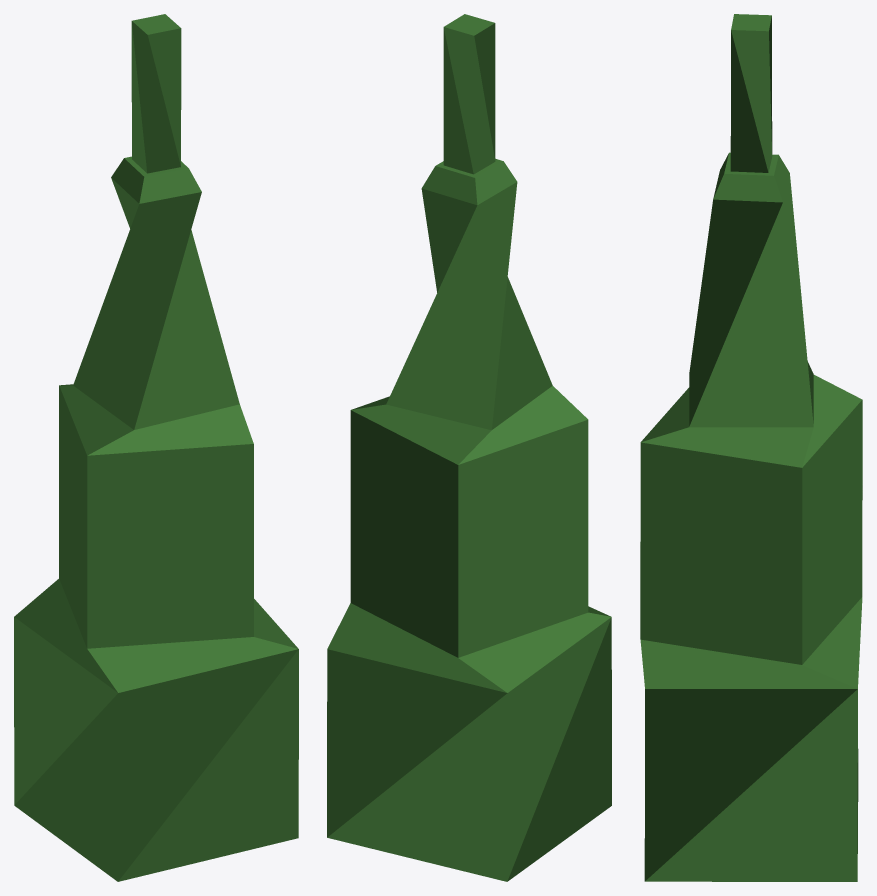
Rendered from Grass.fbx.
3 views of the same model, side by side, from view 1: azimuth 30°, elevation 25°; view 2: azimuth 150°, elevation 25°; view 3: azimuth 270°, elevation 25° (orthographic). The views are drawn at different scales.
Parts seen in each view (by area): view 1: Cube; view 2: Cube; view 3: Cube.
Part boxes in pixels (x1,y1,x2,y2): Cube: (14,14,298,881); Cube: (327,14,611,881); Cube: (640,14,862,881).
Bounding box in the file's own units: 31.45 × 127 × 31.45.
